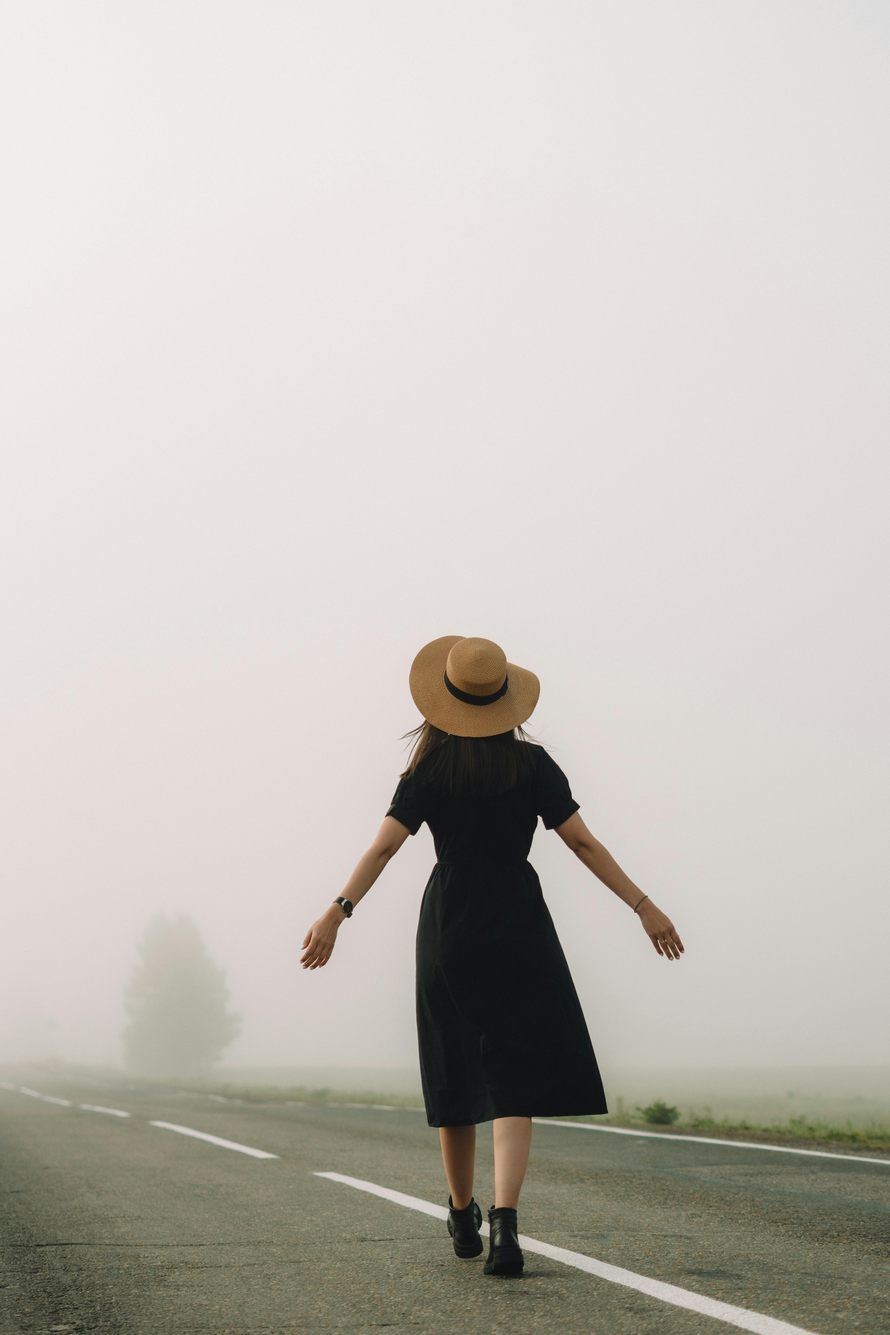Person: (280, 630, 695, 1275)
